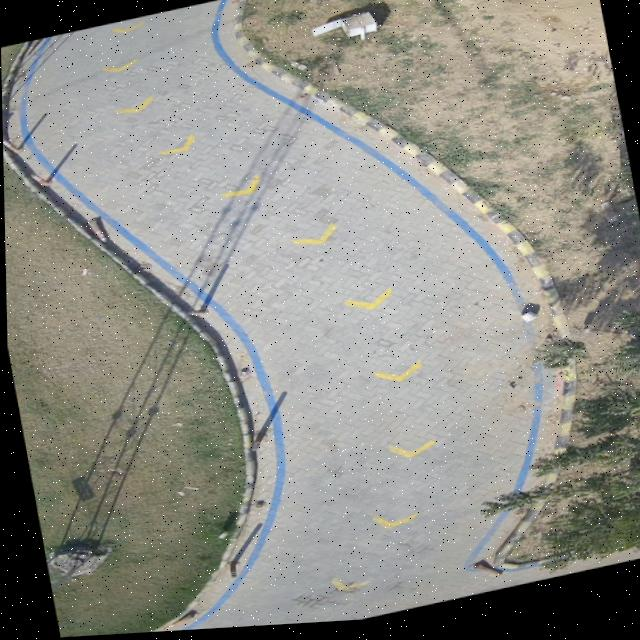No Car: (1, 0, 640, 638)
